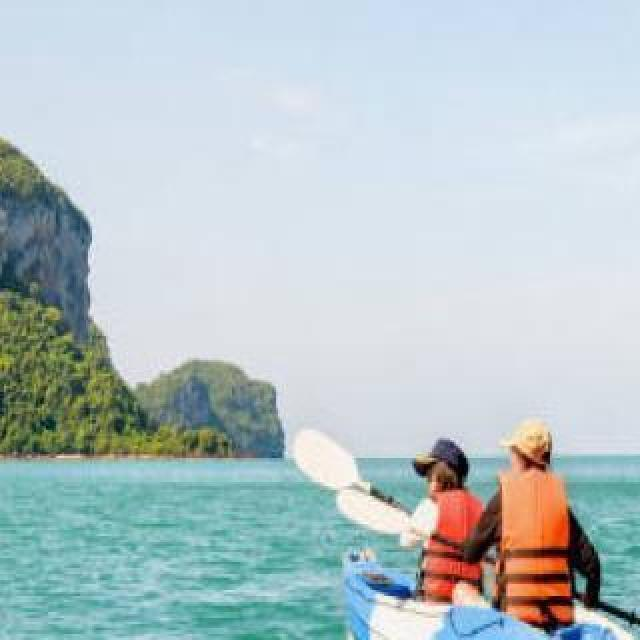kayak: (345, 565, 619, 640)
